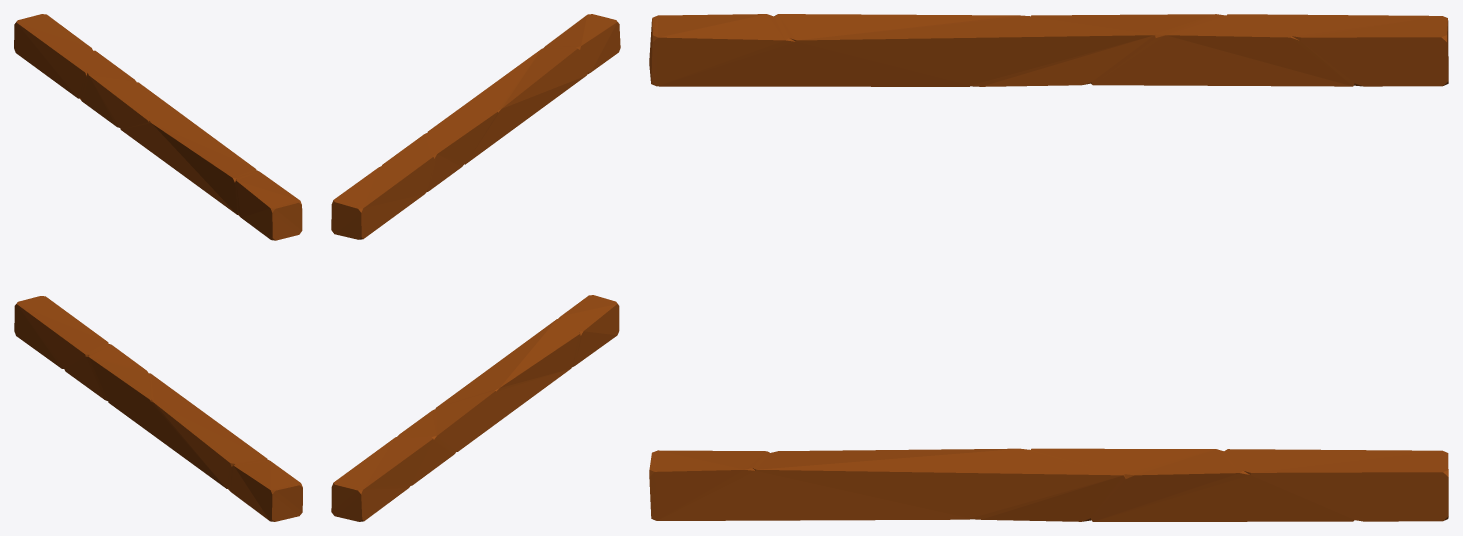
Rendered from WoodPillarHorDouble.fbx.
The picture shows the model from 3 angles, left to right: view 1: azimuth 30°, elevation 25°; view 2: azimuth 150°, elevation 25°; view 3: azimuth 270°, elevation 25°; orthographic projection. The views are drawn at different scales.
Visible parts, largest first — view 1: WoodPillarHorDouble; view 2: WoodPillarHorDouble; view 3: WoodPillarHorDouble.
Part boxes in pixels (bbox=[...]): WoodPillarHorDouble: bbox=[14, 14, 302, 521]; WoodPillarHorDouble: bbox=[331, 14, 620, 521]; WoodPillarHorDouble: bbox=[649, 14, 1448, 521].
Size of the model in its own units: 146 by 1358 by 2019.
